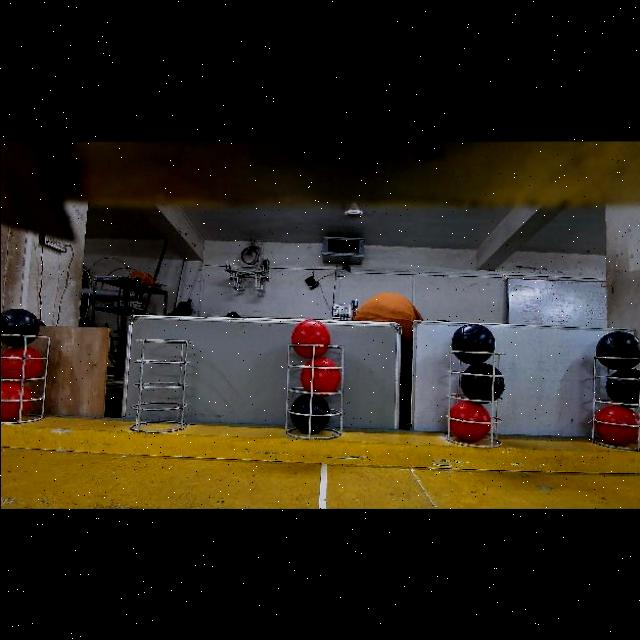P: (595, 330, 640, 369), (461, 363, 502, 403), (289, 395, 329, 432), (0, 308, 38, 346), (453, 324, 492, 360), (605, 368, 640, 408)
R: (449, 402, 490, 442), (597, 405, 637, 445), (300, 358, 340, 396), (0, 346, 42, 382), (291, 320, 329, 358), (0, 382, 31, 419)
S: (278, 334, 342, 438), (129, 333, 193, 432), (439, 344, 498, 450), (584, 352, 640, 450), (1, 329, 52, 423)
